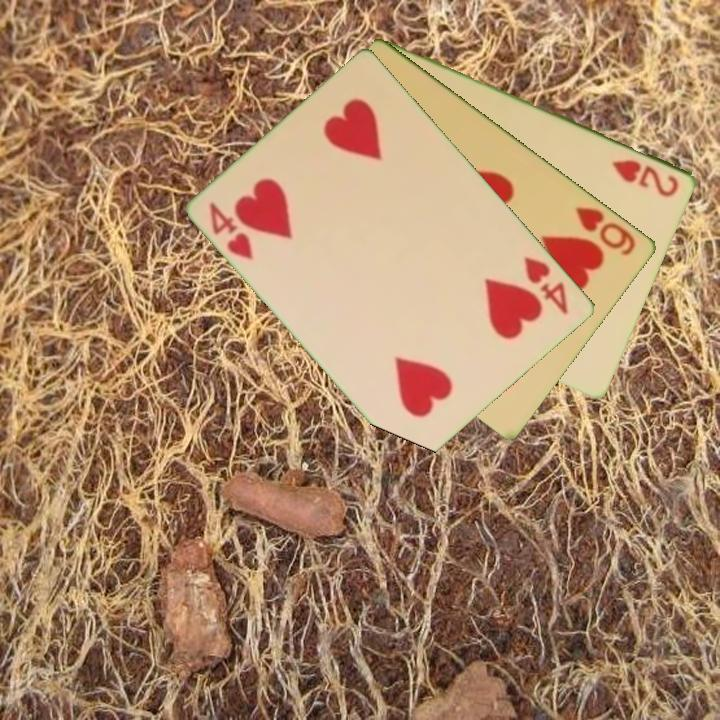2h: (608, 155, 682, 200)
4h: (520, 252, 572, 318), (206, 198, 257, 263)
6h: (572, 203, 640, 259)
